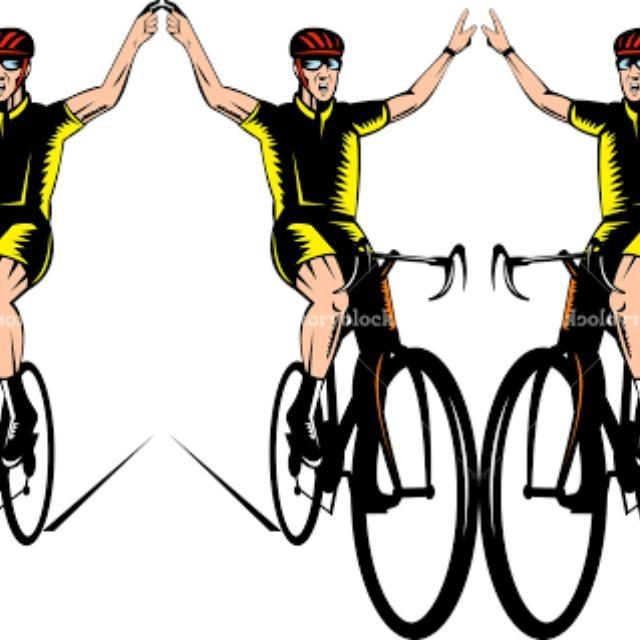obstacle: (271, 233, 479, 640), (479, 233, 640, 640), (0, 233, 51, 640)
